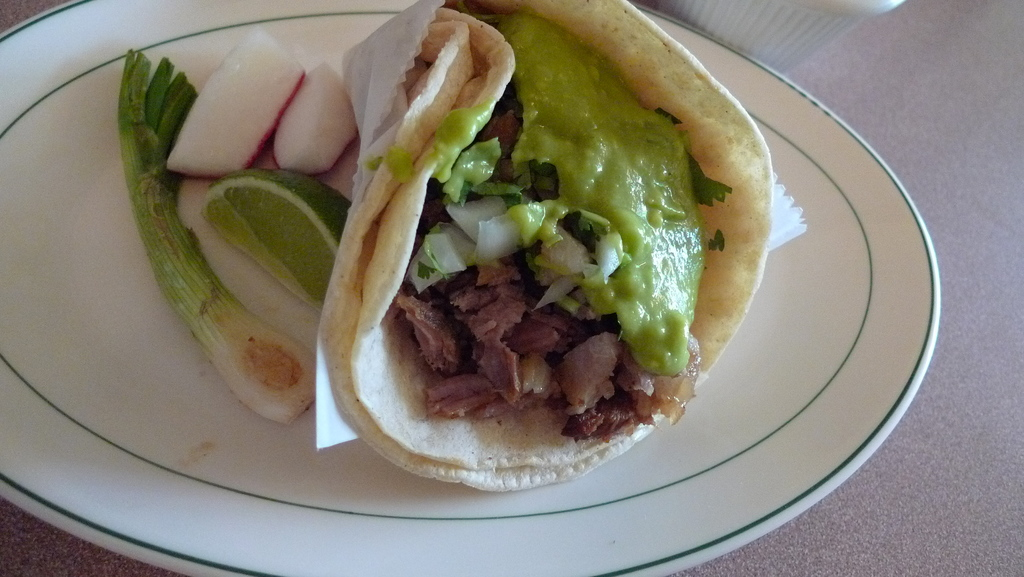taco: (325, 0, 772, 495)
